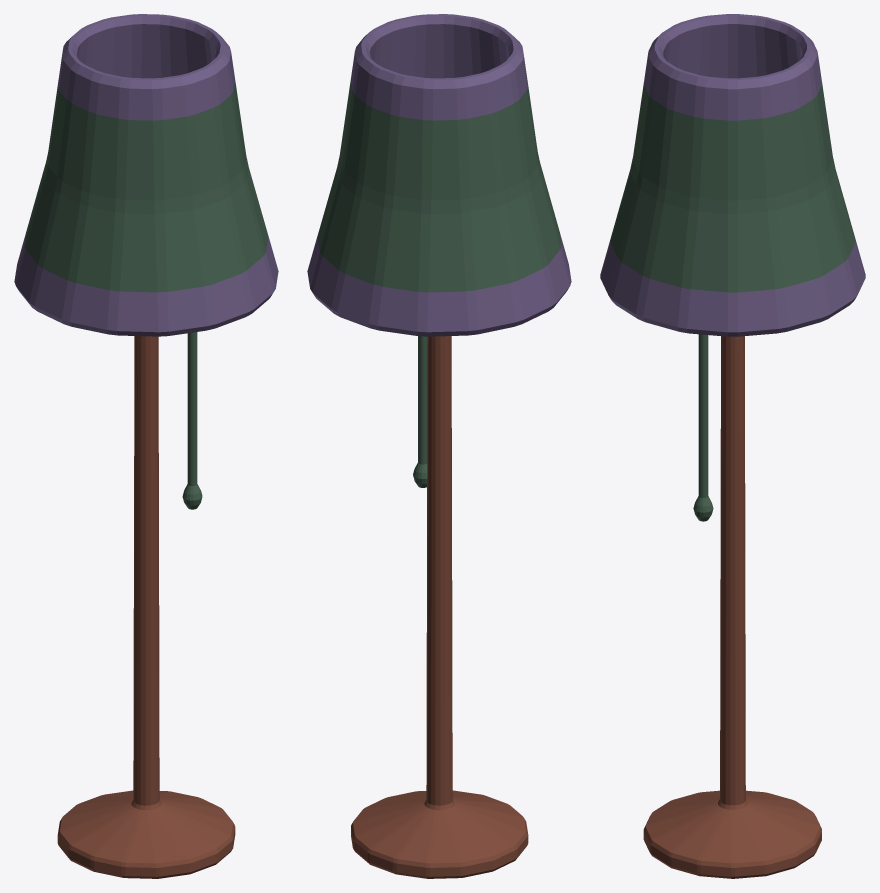
File: Livingroom_Lamp.fbx
The picture shows the model from 3 angles, left to right: view 1: azimuth 30°, elevation 25°; view 2: azimuth 150°, elevation 25°; view 3: azimuth 270°, elevation 25°; orthographic projection.
Visible parts, largest first — view 1: Livingroom_Lamp.002, Livingroom_Lamp.001, Livingroom_Lamp; view 2: Livingroom_Lamp.002, Livingroom_Lamp.001, Livingroom_Lamp; view 3: Livingroom_Lamp.002, Livingroom_Lamp.001, Livingroom_Lamp.
Part boxes in pixels (x1,y1,x2,y2): Livingroom_Lamp.002: (24, 81, 268, 509); Livingroom_Lamp.001: (14, 14, 278, 336); Livingroom_Lamp: (57, 336, 235, 878); Livingroom_Lamp.002: (317, 81, 561, 487); Livingroom_Lamp.001: (307, 14, 571, 336); Livingroom_Lamp: (351, 336, 528, 878); Livingroom_Lamp.002: (610, 83, 855, 521); Livingroom_Lamp.001: (600, 14, 865, 336); Livingroom_Lamp: (643, 336, 821, 878).
Size of the model in its own units: 50.52 by 167 by 50.52.
